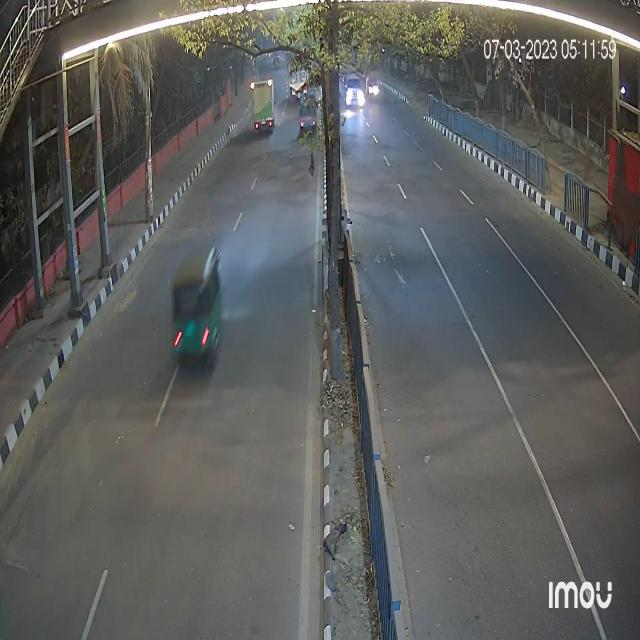cng: (169, 243, 228, 364)
